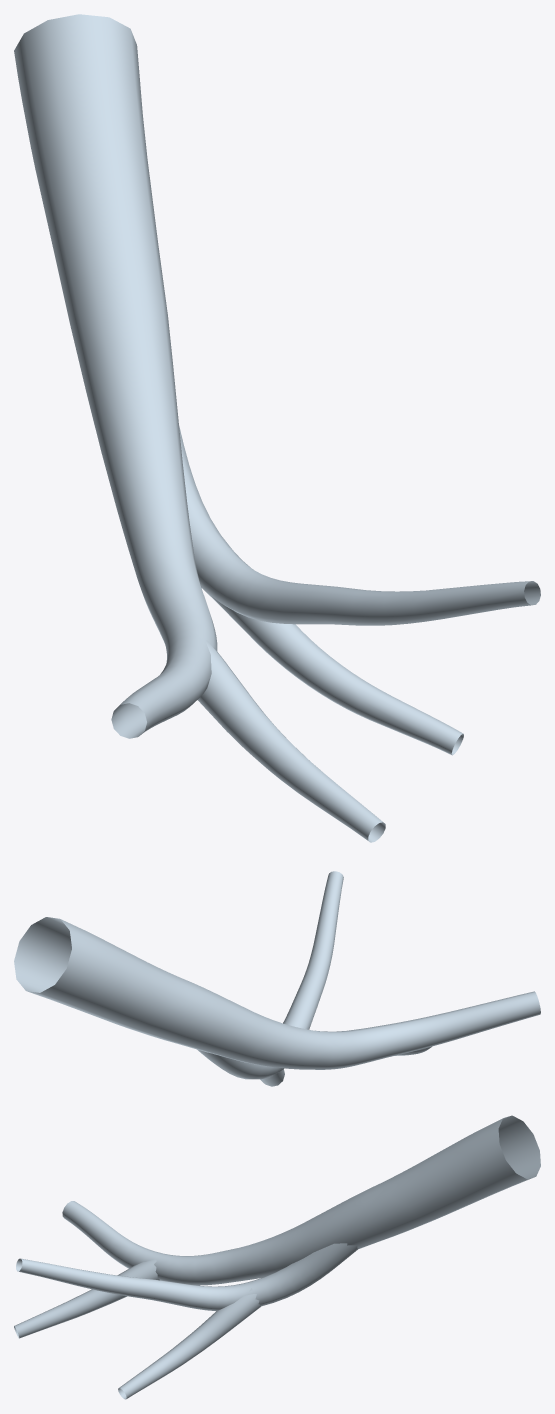
File: visceras-medial-segmental-bronchus-of-right-lung-bv.glb
3 views of the same model, one above another, from view 1: azimuth 30°, elevation 25°; view 2: azimuth 150°, elevation 25°; view 3: azimuth 270°, elevation 25° (orthographic). The views are drawn at different scales.
Visible parts, largest first — view 1: Medial segmental bronchus of right lung (BV); view 2: Medial segmental bronchus of right lung (BV); view 3: Medial segmental bronchus of right lung (BV).
Part boxes in pixels (left/top/right/bottom): Medial segmental bronchus of right lung (BV): left=14, top=14, right=540, bottom=842; Medial segmental bronchus of right lung (BV): left=14, top=871, right=540, bottom=1086; Medial segmental bronchus of right lung (BV): left=14, top=1115, right=540, bottom=1399.
Size of the model in its own units: 0.0387 by 0.0442 by 0.0773.
